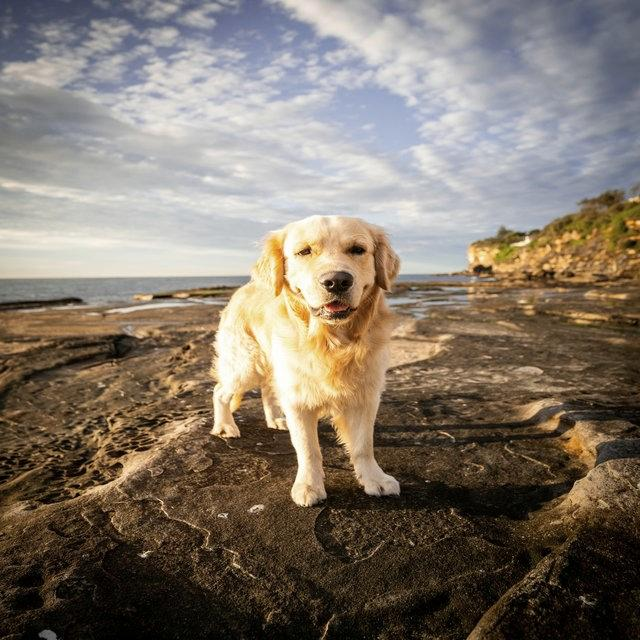retriever: (208, 213, 402, 507)
